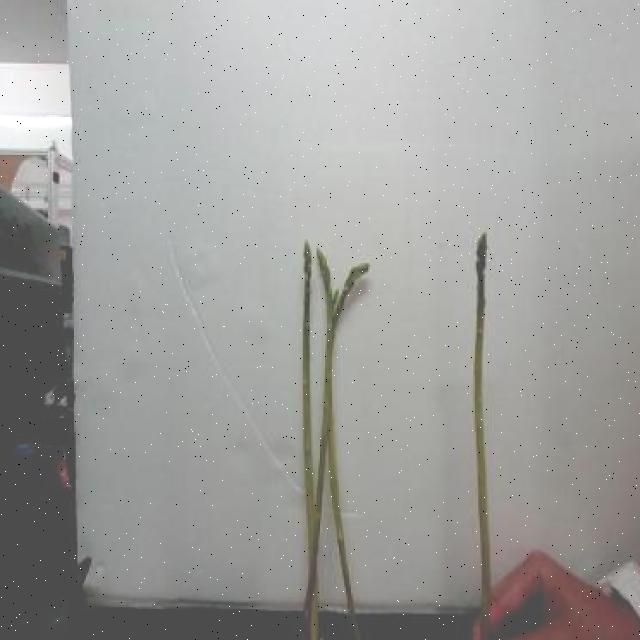aspargus: (297, 263, 370, 633), (473, 233, 493, 640)
